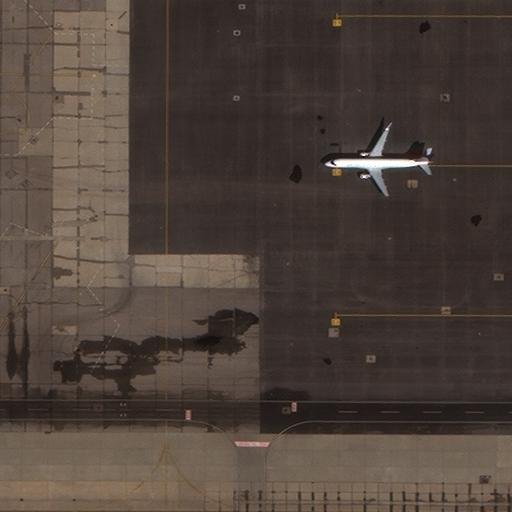Medium Civil Transport: (323, 122, 434, 197)
